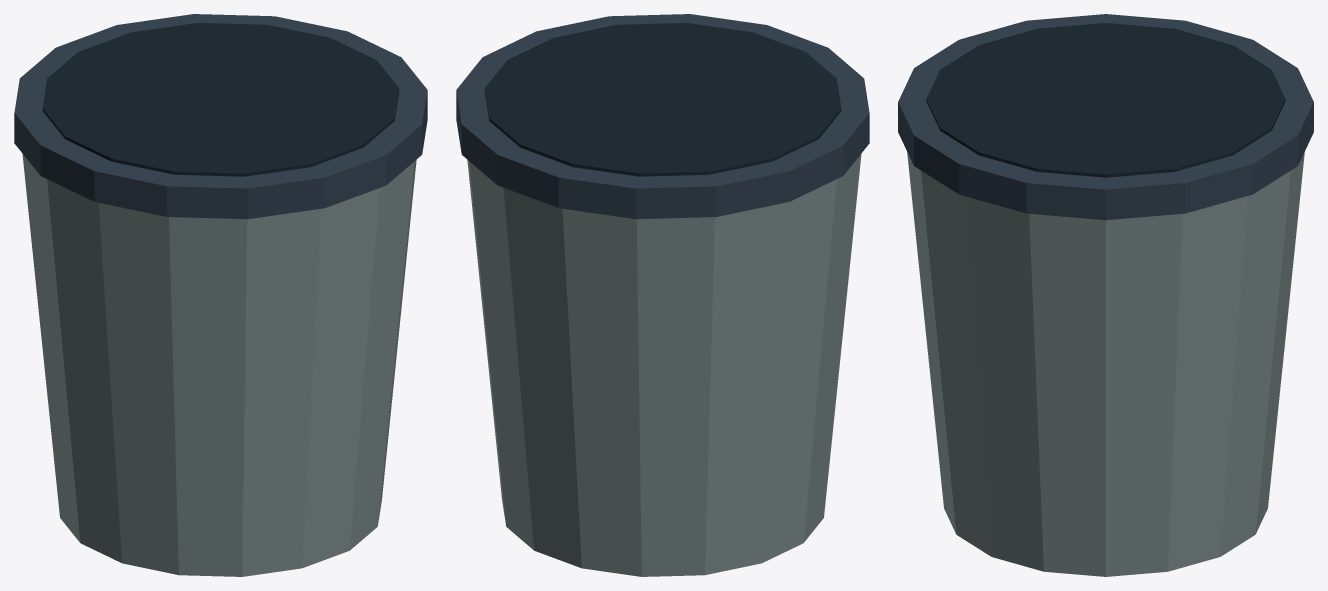
Rendered from waste_bin.glb.
3 views of the same model, side by side, from view 1: azimuth 30°, elevation 25°; view 2: azimuth 150°, elevation 25°; view 3: azimuth 270°, elevation 25° (orthographic).
Parts seen in each view (by area): view 1: waste_bin__metal_light, waste_bin__black, waste_bin__metal; view 2: waste_bin__metal_light, waste_bin__black, waste_bin__metal; view 3: waste_bin__metal_light, waste_bin__black, waste_bin__metal.
Boxes of the visible parts, x1,y1,x2,y2 form: waste_bin__metal_light: (22, 153, 416, 576); waste_bin__black: (42, 23, 399, 176); waste_bin__metal: (14, 14, 427, 219); waste_bin__metal_light: (467, 153, 861, 576); waste_bin__black: (484, 23, 841, 176); waste_bin__metal: (456, 14, 869, 219); waste_bin__metal_light: (907, 152, 1304, 576); waste_bin__black: (926, 23, 1285, 177); waste_bin__metal: (898, 14, 1313, 220).
Bounding box in the file's own units: 0.308 × 0.335 × 0.308.
